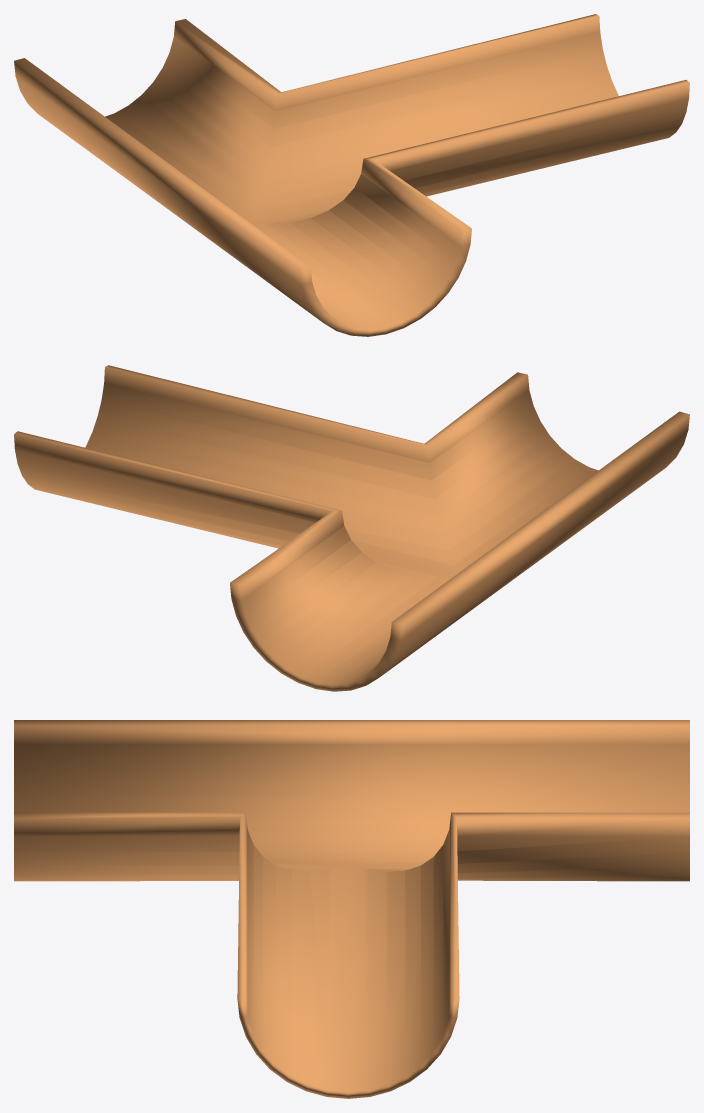
Rendered from way T.fbx.
The picture shows the model from 3 angles, top to bottom: view 1: azimuth 30°, elevation 25°; view 2: azimuth 150°, elevation 25°; view 3: azimuth 270°, elevation 25°; orthographic projection. The views are drawn at different scales.
Visible parts, largest first — view 1: Sphere.002; view 2: Sphere.002; view 3: Sphere.002.
Part boxes in pixels (x1,y1,x2,y2): Sphere.002: [14, 14, 689, 336]; Sphere.002: [14, 365, 689, 691]; Sphere.002: [14, 720, 689, 1098].
Size of the model in its own units: 3034 by 513 by 3107.
